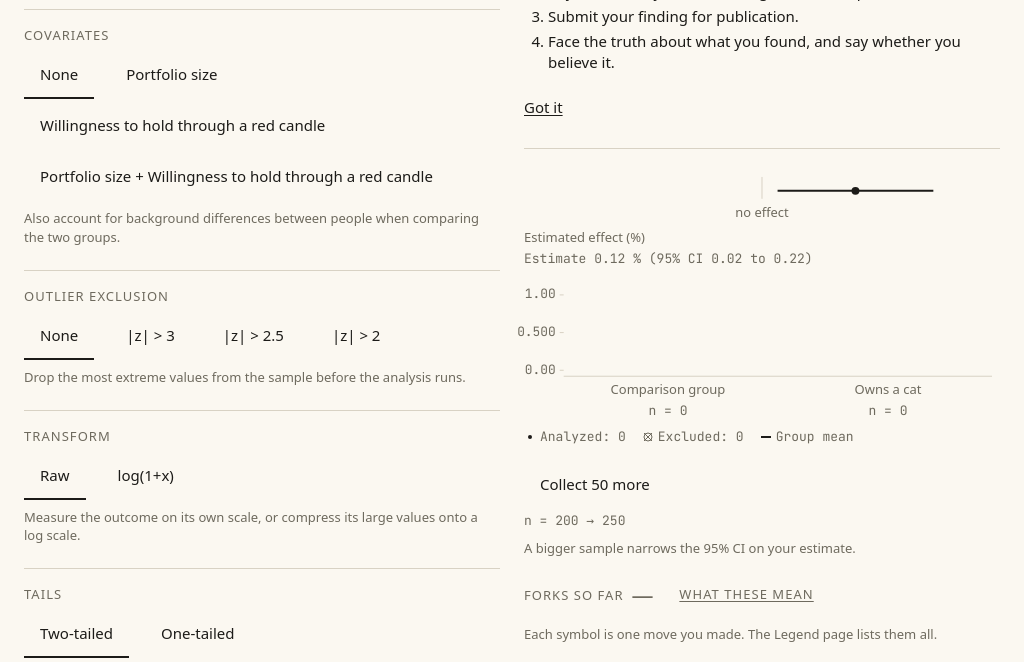
Test case: Lab › shows the sincere peek footnote after the first peek, and the Armitage wink only after the second
(page scrolled)
Click the button "Collect 50 more" at (595, 485), box 524,462 -> 666,508
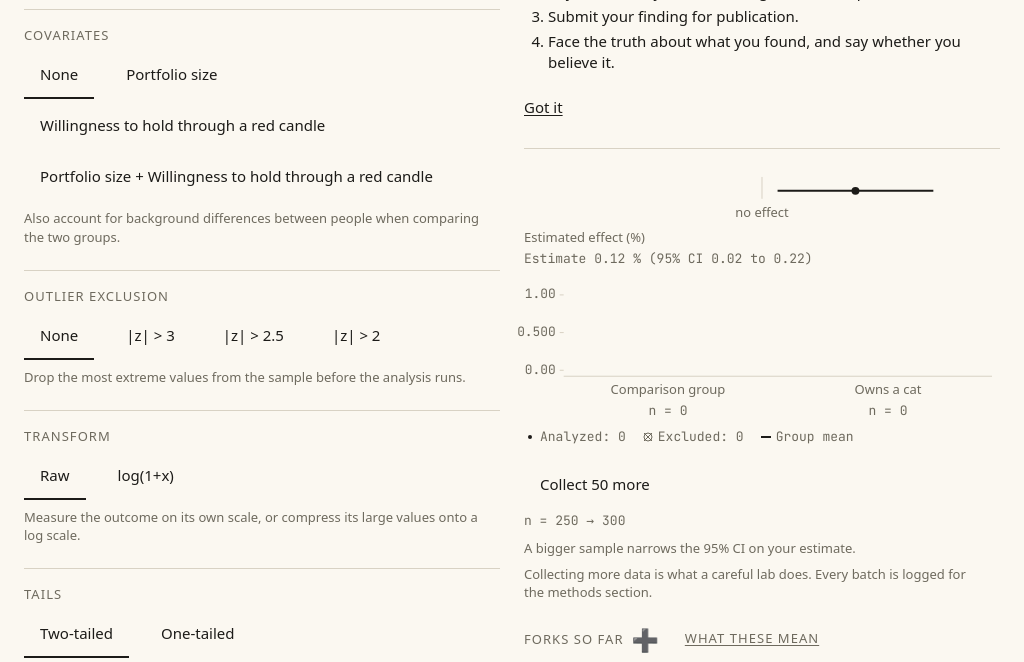
expect the text "Collecting more data is what a careful lab does. Every batch is logged for the methods section." is shown: met, box 524,565 -> 966,601
Click the button "Collect 50 more" at (595, 485), box 524,462 -> 666,508
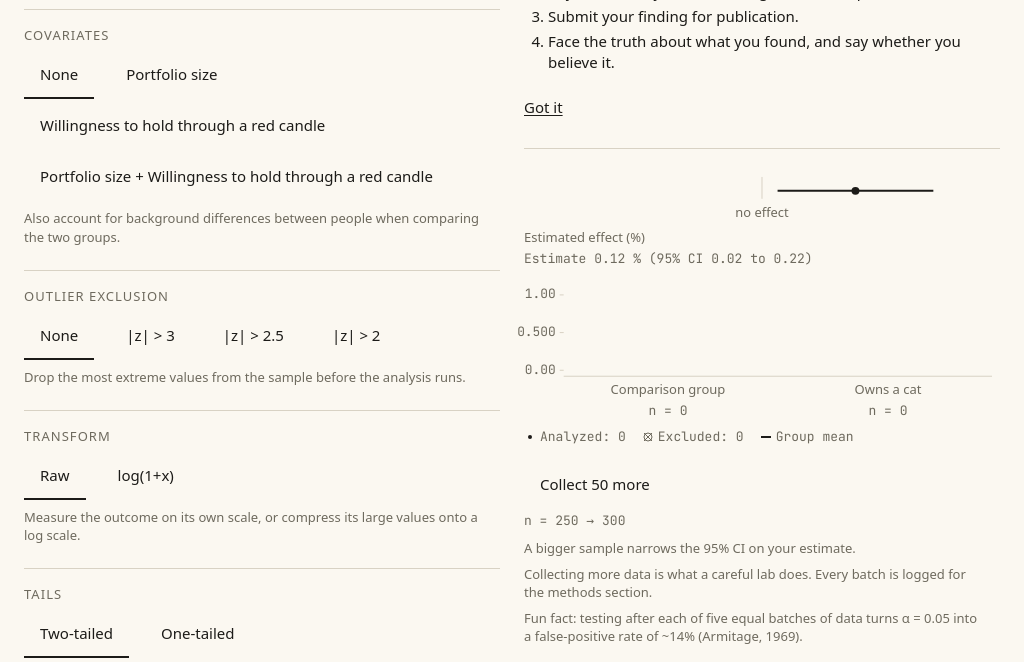
expect the text "Collecting more data is what a careful lab does. Every batch is logged for the methods section." is shown: met, box 524,565 -> 966,601
expect the text "Fun fact: testing after each of five equal batches of data turns α = 0.05 into a false-positive rate of ~14% (Armitage, " is shown: met, box 524,609 -> 977,645
